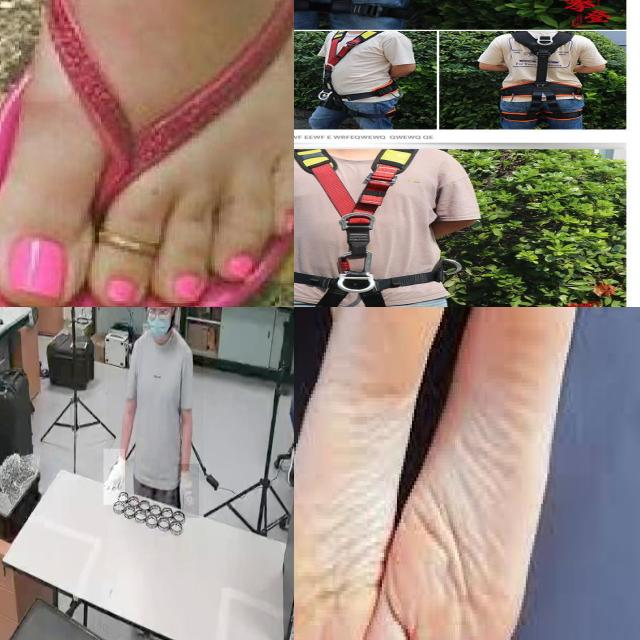Barefoots: (0, 0, 291, 307), (361, 307, 591, 640), (294, 307, 447, 640)
Harness: (294, 148, 433, 307), (506, 34, 583, 115)
face_mask: (147, 307, 172, 337)
hand_glove: (104, 448, 125, 506), (178, 464, 200, 519)
person: (107, 307, 204, 516)
